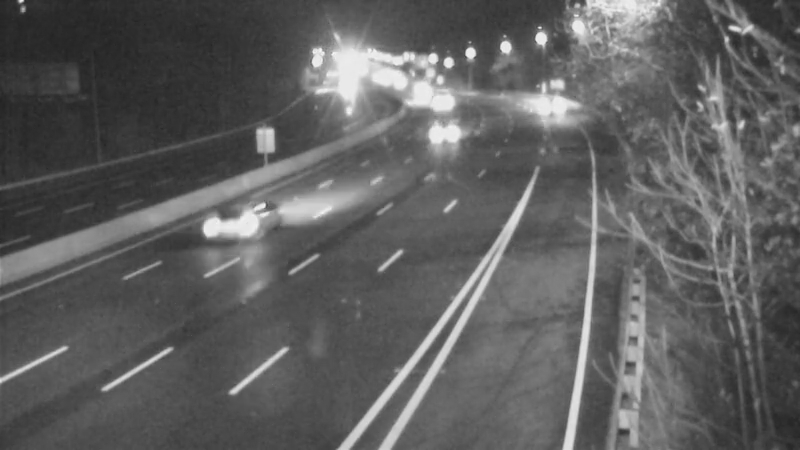vehicle: (186, 181, 266, 261), (419, 79, 469, 129), (516, 80, 566, 130), (391, 75, 441, 125), (418, 108, 468, 158)
